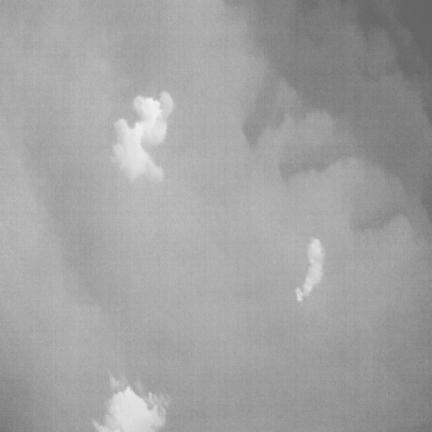flukeprints: (113, 92, 173, 181), (92, 377, 167, 431), (296, 238, 324, 302)
